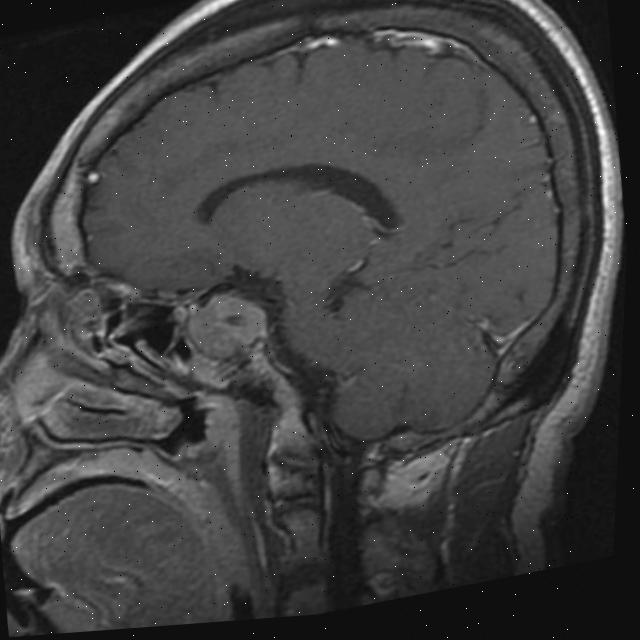Pituitary: (181, 283, 272, 371)
